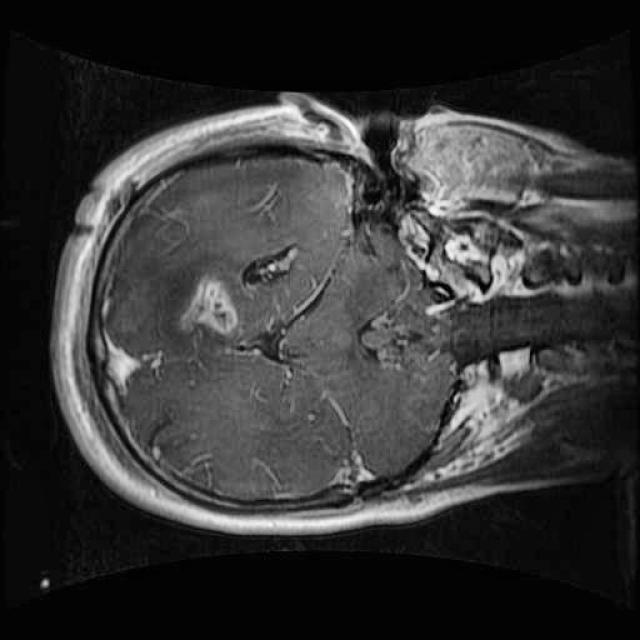Tumor: (170, 264, 250, 348)
